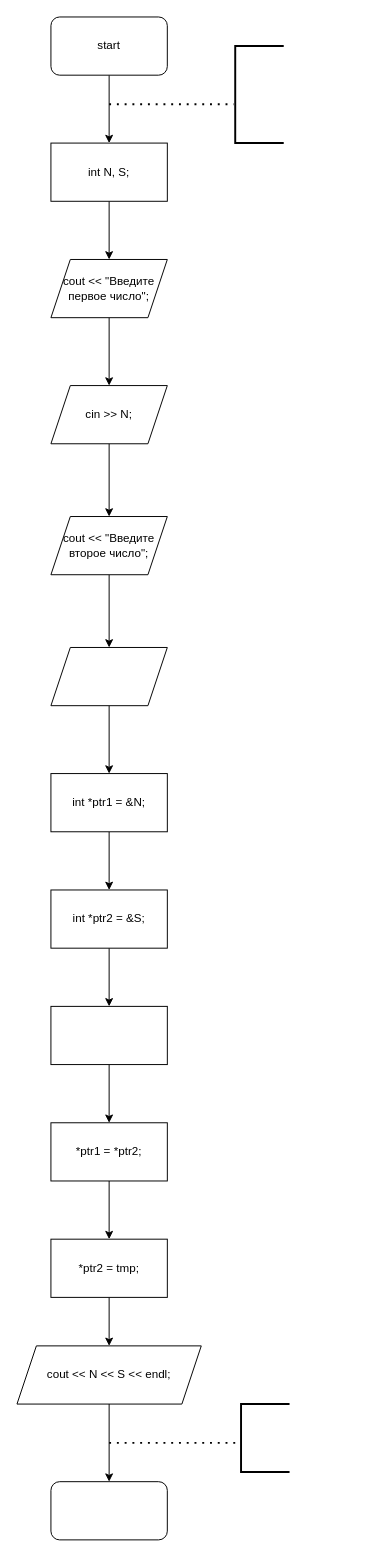
Some shapes in this 368 by 1557 pixel diagram are drawn without their labels. The shapes that lost their labels are listed below. From the top down, each one's centre as x and y in pixels, then its label:
At pixel 259 94: "#include <iostream> using namespace std; int main ()".
At pixel 108 676: "cin >> S;".
At pixel 108 1035: "int tmp = *ptr1;".
At pixel 265 1437: "return 0;".
At pixel 108 1510: "end".
